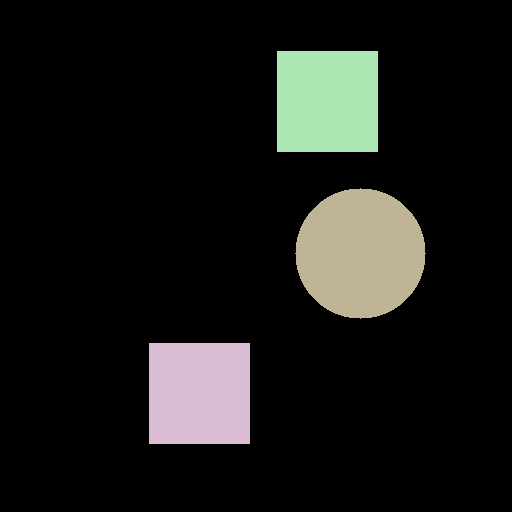circle: (295, 188, 425, 318)
square: (149, 343, 249, 443), (277, 51, 377, 151)
